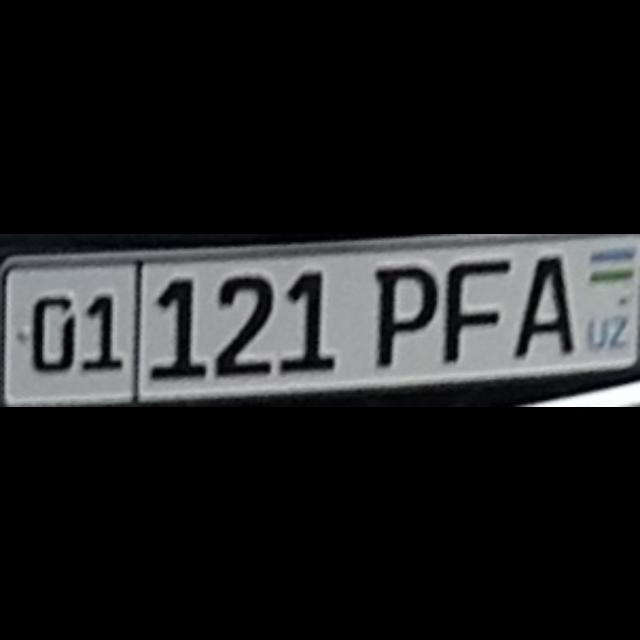0: (27, 292, 74, 368)
1: (148, 275, 204, 377), (278, 269, 332, 371), (81, 292, 121, 368)
2: (212, 273, 272, 373)
A: (512, 254, 570, 354)
F: (443, 258, 509, 362)
P: (371, 265, 435, 365)
